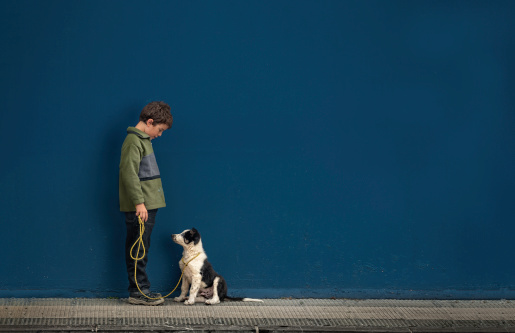em pe: (112, 94, 176, 286)
